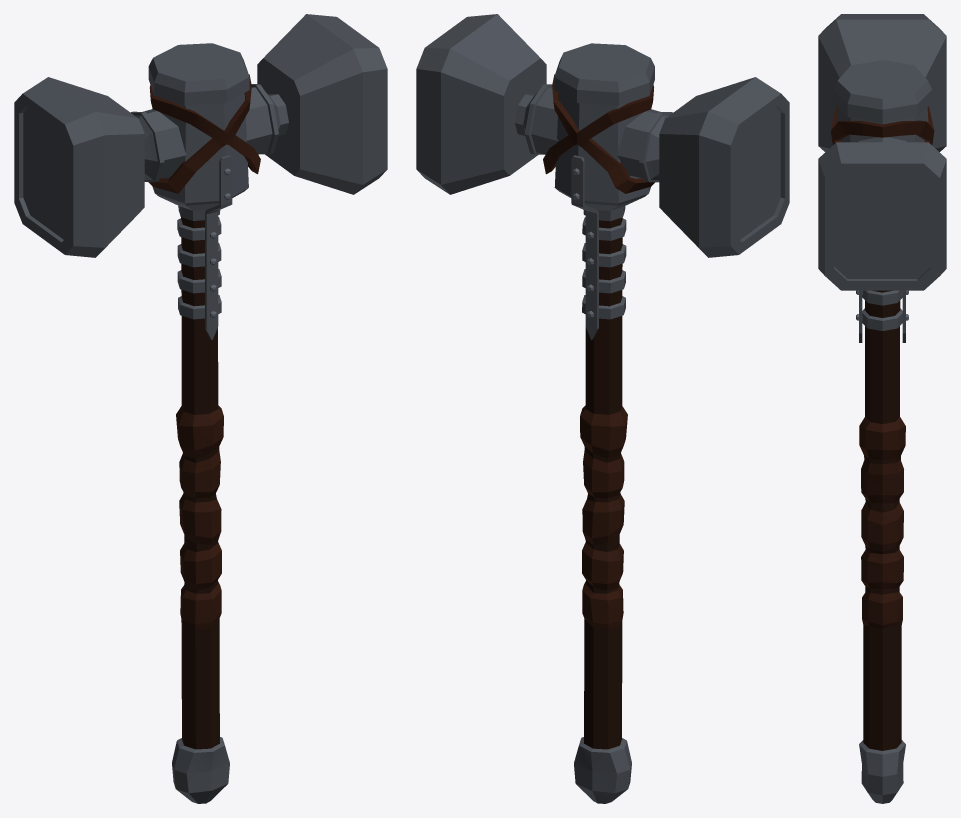
Rendered from Hammer_Double-tri.obj.
3 renders of one model, left to right at view 1: azimuth 30°, elevation 25°; view 2: azimuth 150°, elevation 25°; view 3: azimuth 270°, elevation 25°, orthographic. The views are drawn at different scales.
Parts seen in each view (by area): view 1: Hammer_Double_Cylinder.008; view 2: Hammer_Double_Cylinder.008; view 3: Hammer_Double_Cylinder.008.
Boxes of the visible parts, x1,y1,x2,y2 form: Hammer_Double_Cylinder.008: [14, 14, 387, 803]; Hammer_Double_Cylinder.008: [416, 14, 789, 803]; Hammer_Double_Cylinder.008: [818, 14, 946, 803].
Bounding box in the file's own units: 2.22 × 4.97 × 0.8057.
